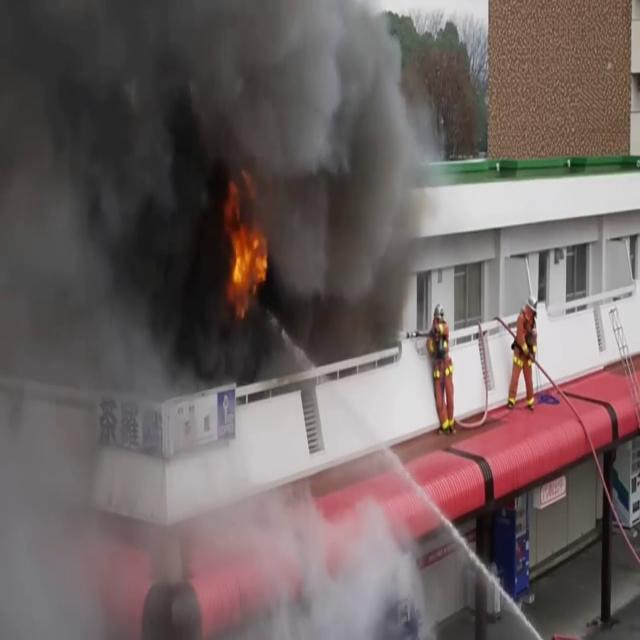Fire: (220, 184, 272, 314)
Smoke: (1, 0, 440, 351), (0, 442, 408, 640)
